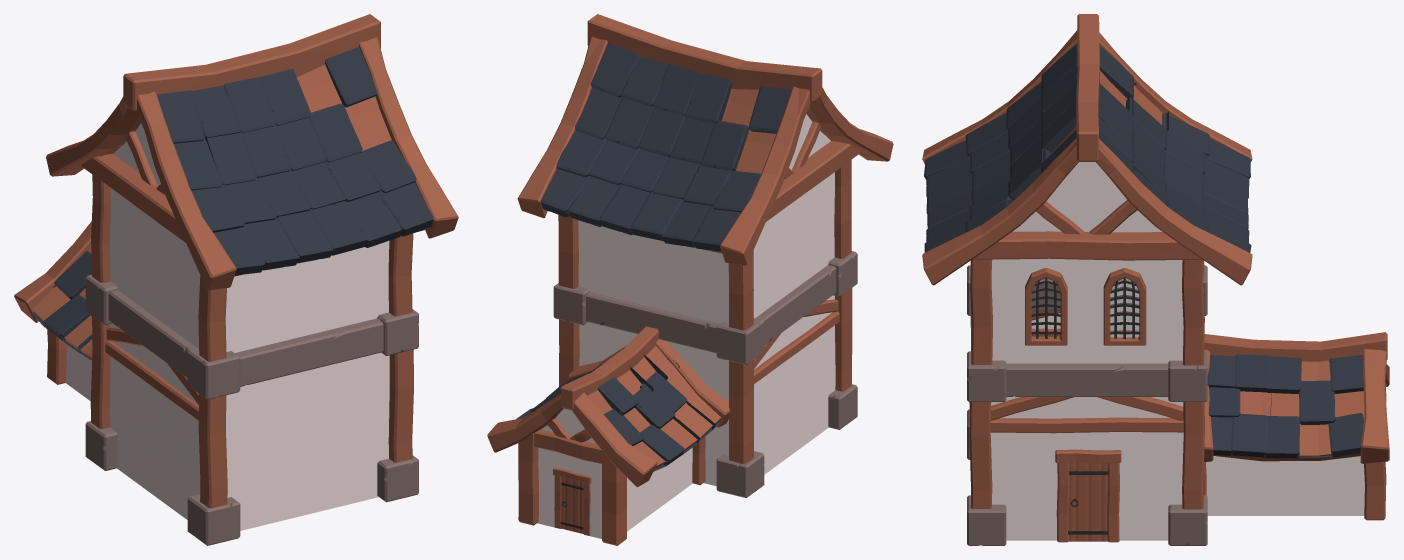
Rendered from house-asset-doors.fbx.
The picture shows the model from 3 angles, left to right: view 1: azimuth 30°, elevation 25°; view 2: azimuth 150°, elevation 25°; view 3: azimuth 270°, elevation 25°; orthographic projection. The views are drawn at different scales.
Parts seen in each view (by area): view 1: House; view 2: House, LittleDoor; view 3: House, BigDoor, Grill2, Grill1, GrillTemplate.
Boxes of the visible parts, left/top/right/bottom form: House: left=14, top=14, right=458, bottom=545; House: left=487, top=14, right=893, bottom=545; LittleDoor: left=560, top=477, right=583, bottom=533; House: left=922, top=14, right=1389, bottom=545; BigDoor: left=1068, top=462, right=1108, bottom=541; Grill2: left=1110, top=278, right=1139, bottom=338; Grill1: left=1031, top=278, right=1060, bottom=338; GrillTemplate: left=1110, top=278, right=1139, bottom=337.
Bounding box in the file's own units: 1437 × 2375 × 2375.
